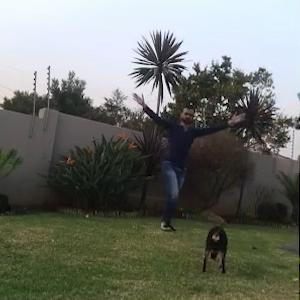takeoff: (133, 92, 244, 241)
